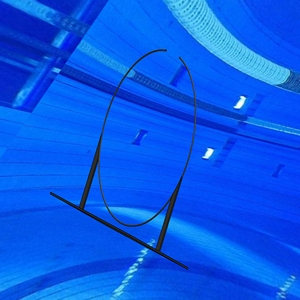circle: (49, 47, 198, 271)
